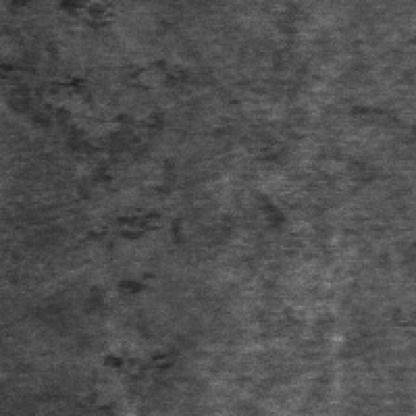rolled-in_scale: (19, 50, 162, 223), (85, 204, 183, 378), (50, 0, 118, 33)
